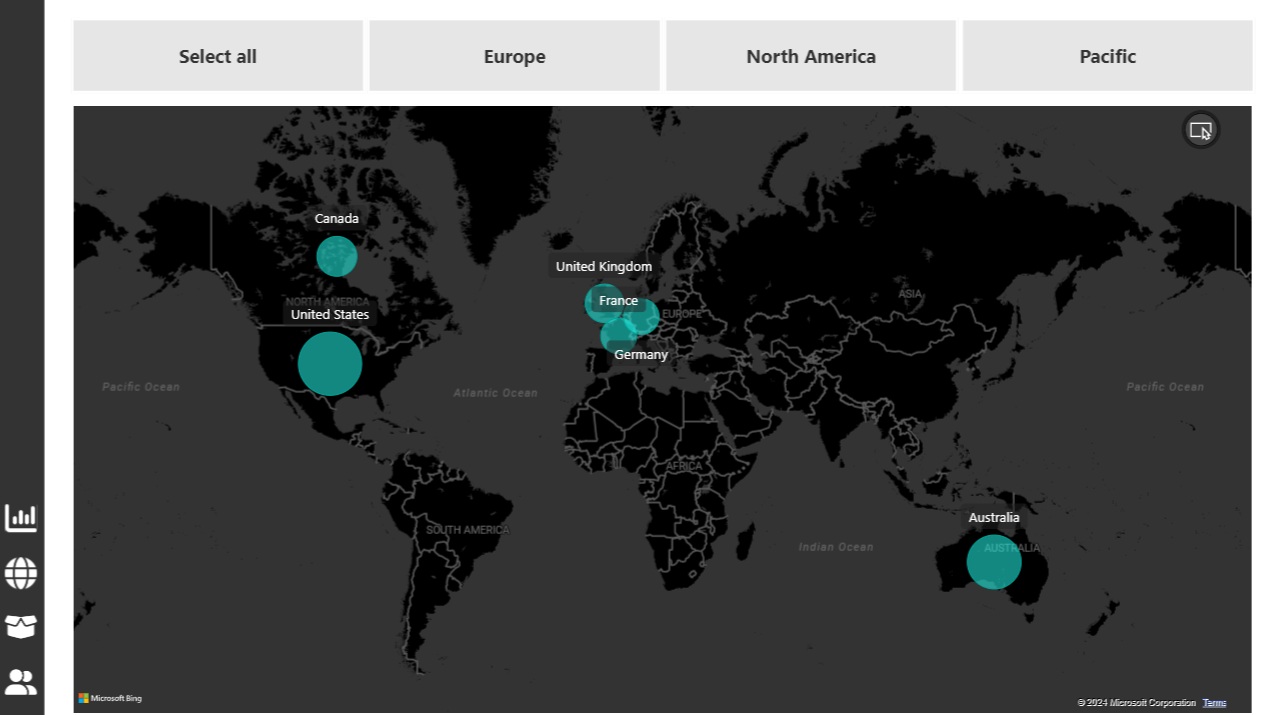

The page's visual inventory and layout, read from the dashboard file:
{"tool":"powerbi","page":{"name":"Map","canvas":[1280,720],"ordinal":1},"visuals":[{"type":"shape","box":[0,0,45,720],"z":0},{"type":"actionButton","box":[0.8,501.7,45,40],"z":1000,"group":"g1"},{"type":"map","fields":{"Category":["Territory Lookup.Country"],"Size":["Measure Table.Total Orders"]},"box":[69,103.4,1187.9,617.2],"z":1000},{"type":"slicer","fields":{"Values":["Territory Lookup.Continent"]},"box":[44.8,13.8,1234.5,89.7],"z":2000},{"type":"actionButton","box":[0.8,556.1,45,40],"z":2000,"group":"g1"},{"type":"actionButton","box":[0.8,610.6,45,40],"z":3000,"group":"g1"},{"type":"group","id":"g1","title":"Navigation Buttons","box":[0.8,501.7,45,203.3],"z":3000},{"type":"actionButton","box":[0.8,665,45,40],"z":4000,"group":"g1"}]}

Visuals, with their boxes in screenshot pixels (x1, y1, x2, y2), scaled from the page's 1280x720 canvas onto the 1276x715 screenshot:
shape: box=[0, 0, 45, 714]
actionButton: box=[1, 498, 46, 538]
map - Territory Lookup.Country x Measure Table.Total Orders: box=[69, 103, 1253, 714]
slicer - Territory Lookup.Continent: box=[45, 14, 1275, 103]
actionButton: box=[1, 552, 46, 592]
actionButton: box=[1, 606, 46, 646]
"Navigation Buttons" group: box=[1, 498, 46, 700]
actionButton: box=[1, 660, 46, 700]
